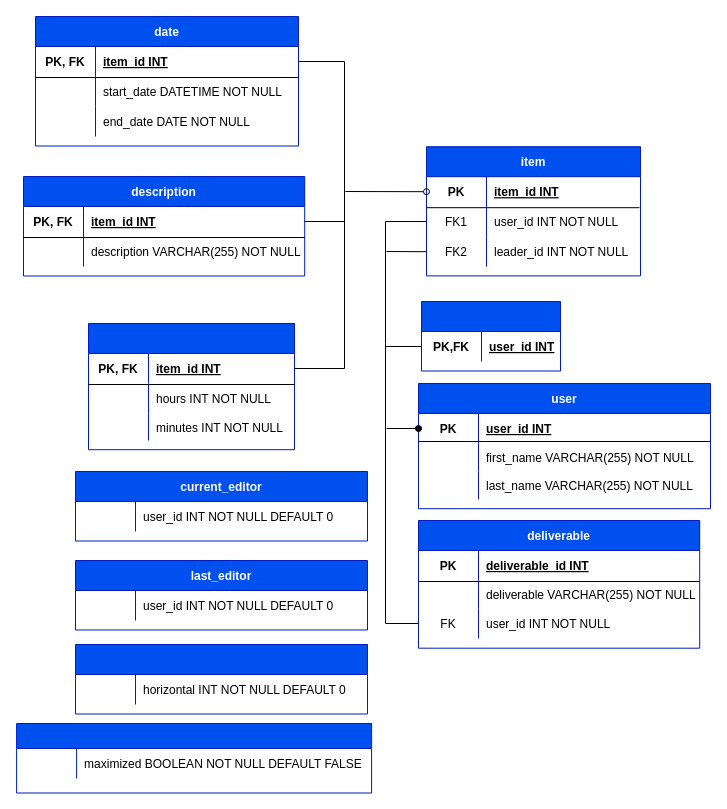
This 727x809 diagram has some shape labels left out. Here are the shapes that lost their labels. From the top down, the box of each, then its label:
(420, 300, 560, 371): current_leader
(88, 322, 294, 450): time
(74, 644, 368, 714): users_scroll
(16, 722, 372, 793): logger_window
